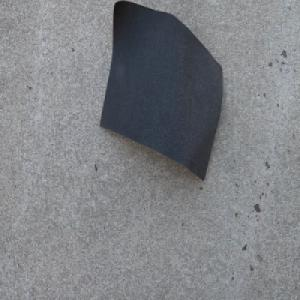PaintChip: (98, 0, 224, 181)
